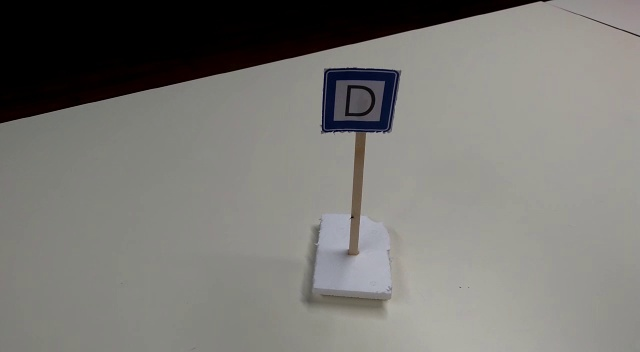durak: (322, 67, 396, 135)
